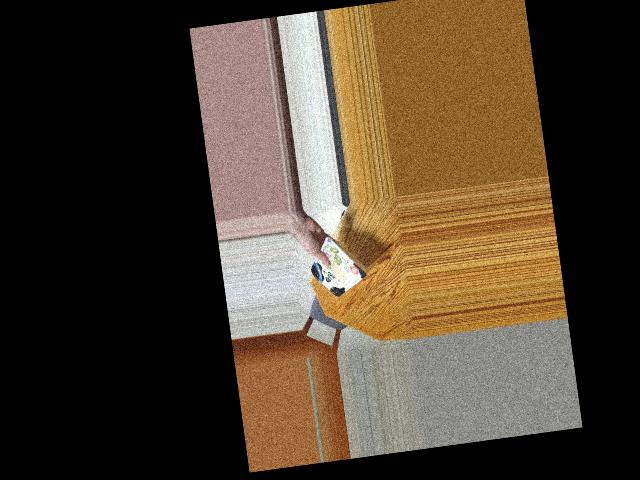cheese: (313, 240, 365, 299)
